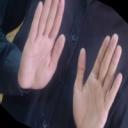hand: (72, 32, 123, 127), (16, 0, 66, 90)
